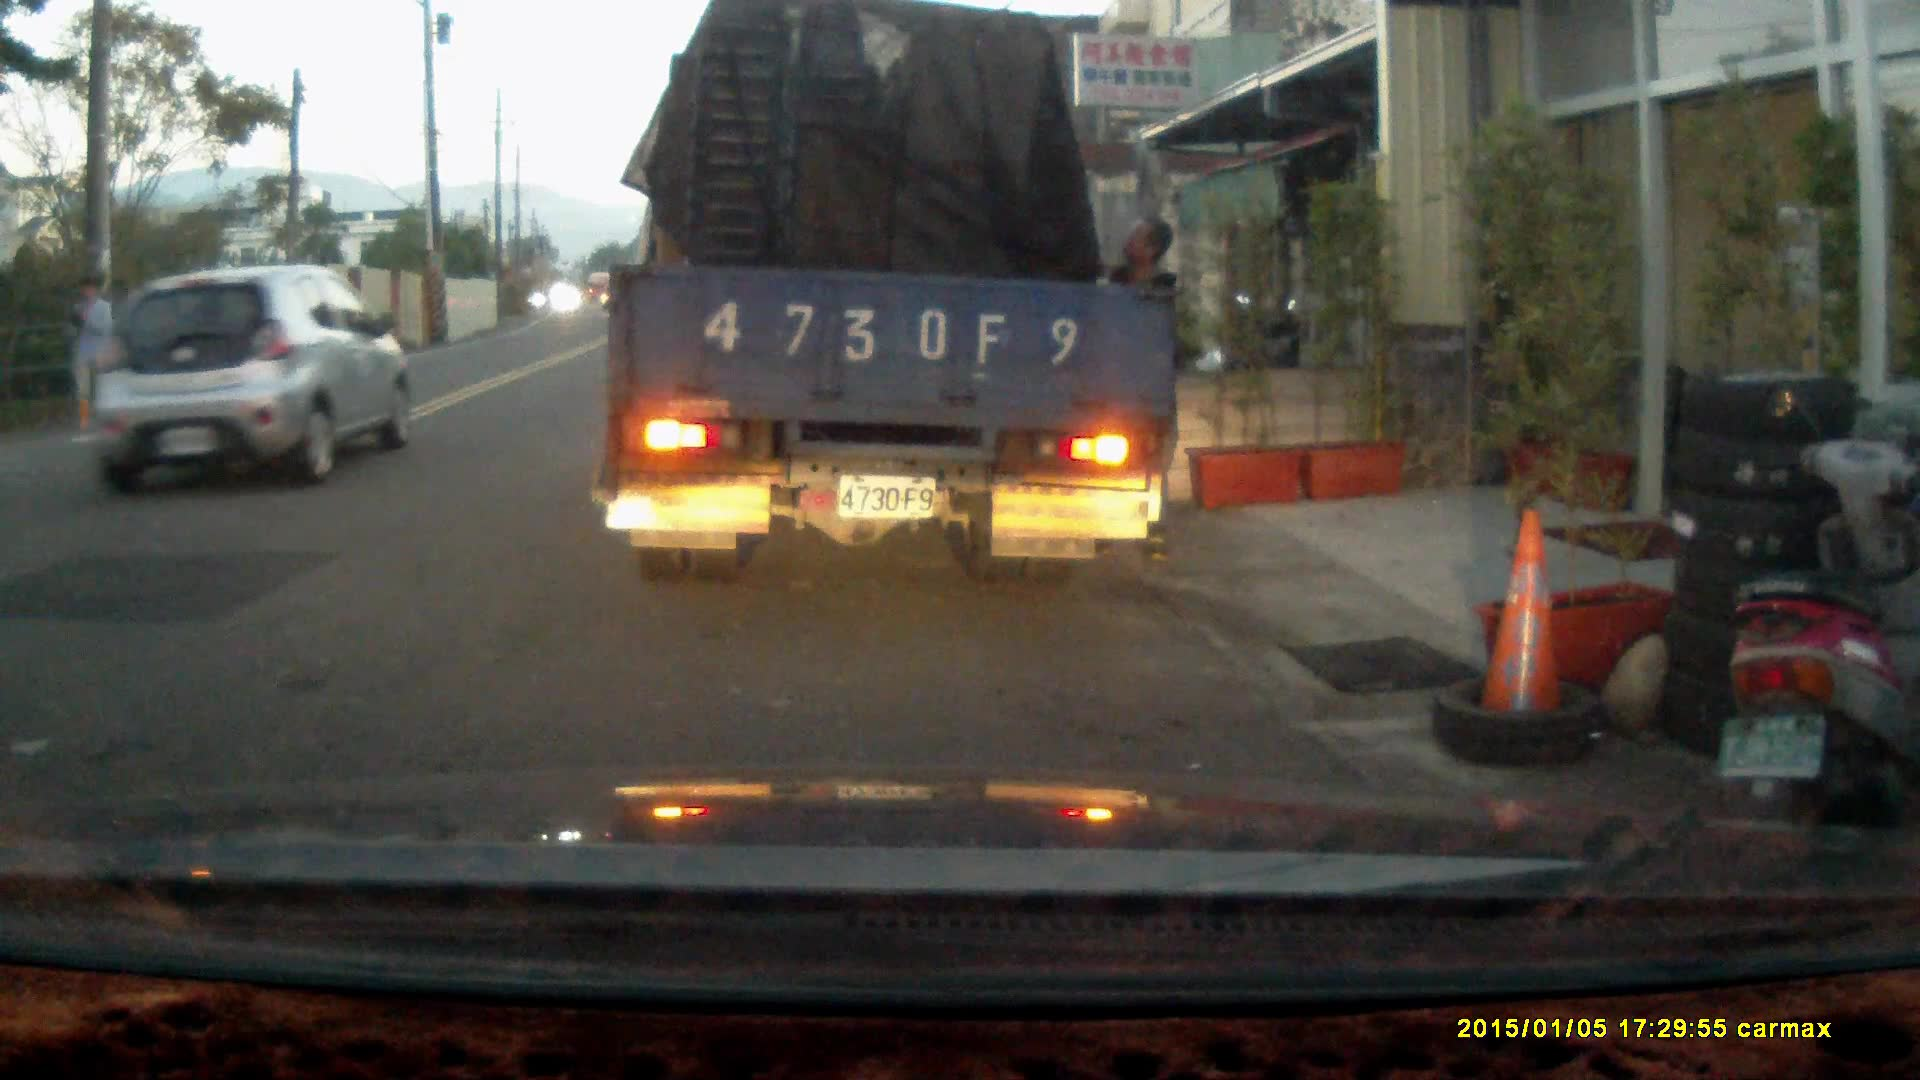pedestrian: (1085, 214, 1186, 567), (60, 274, 123, 422)
vehicle: (602, 23, 1185, 572), (79, 262, 411, 488)
